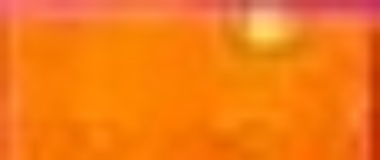Hotspot: (234, 1, 292, 47)
